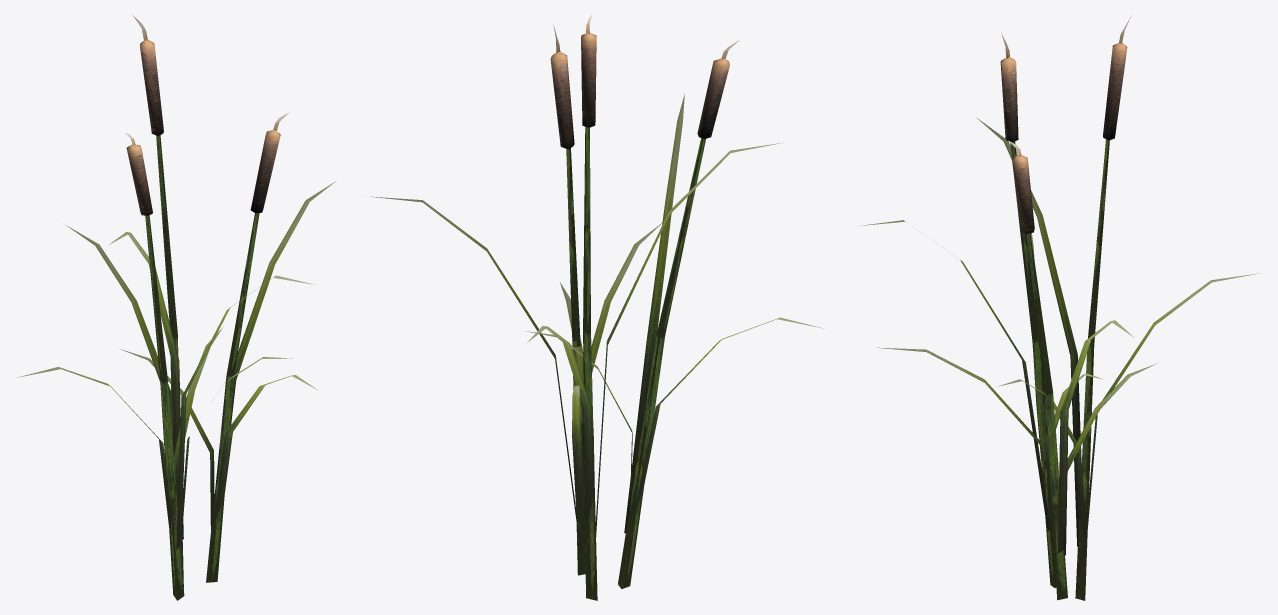
The model's file is swmp_shor_cattail_cluster_l0.fbx.
The picture shows the model from 3 angles, left to right: view 1: azimuth 30°, elevation 25°; view 2: azimuth 150°, elevation 25°; view 3: azimuth 270°, elevation 25°; orthographic projection. The views are drawn at different scales.
Parts seen in each view (by area): view 1: mesh_node; view 2: mesh_node; view 3: mesh_node.
Boxes of the visible parts, x1,y1,x2,y2 form: mesh_node: (17,14,335,600); mesh_node: (367,15,823,600); mesh_node: (860,15,1261,600).
Bounding box in the file's own units: 2.7 × 3.87 × 2.5.
